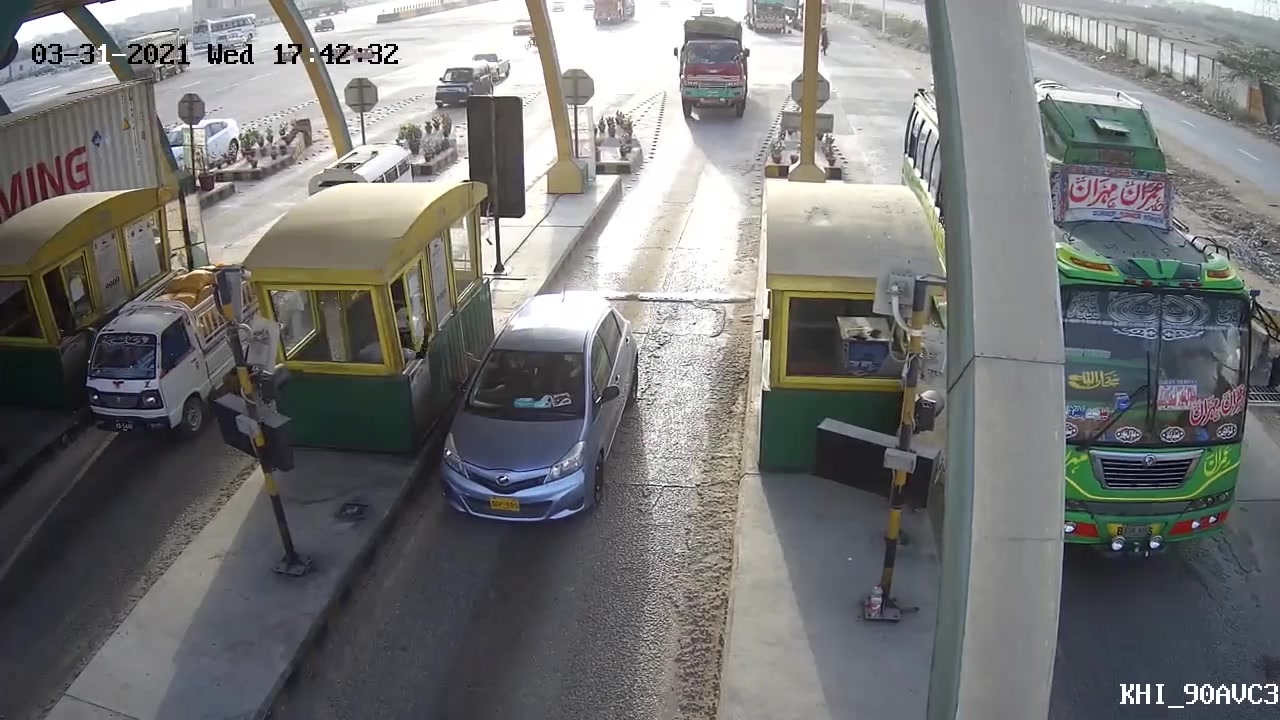F1: (430, 281, 648, 534)
